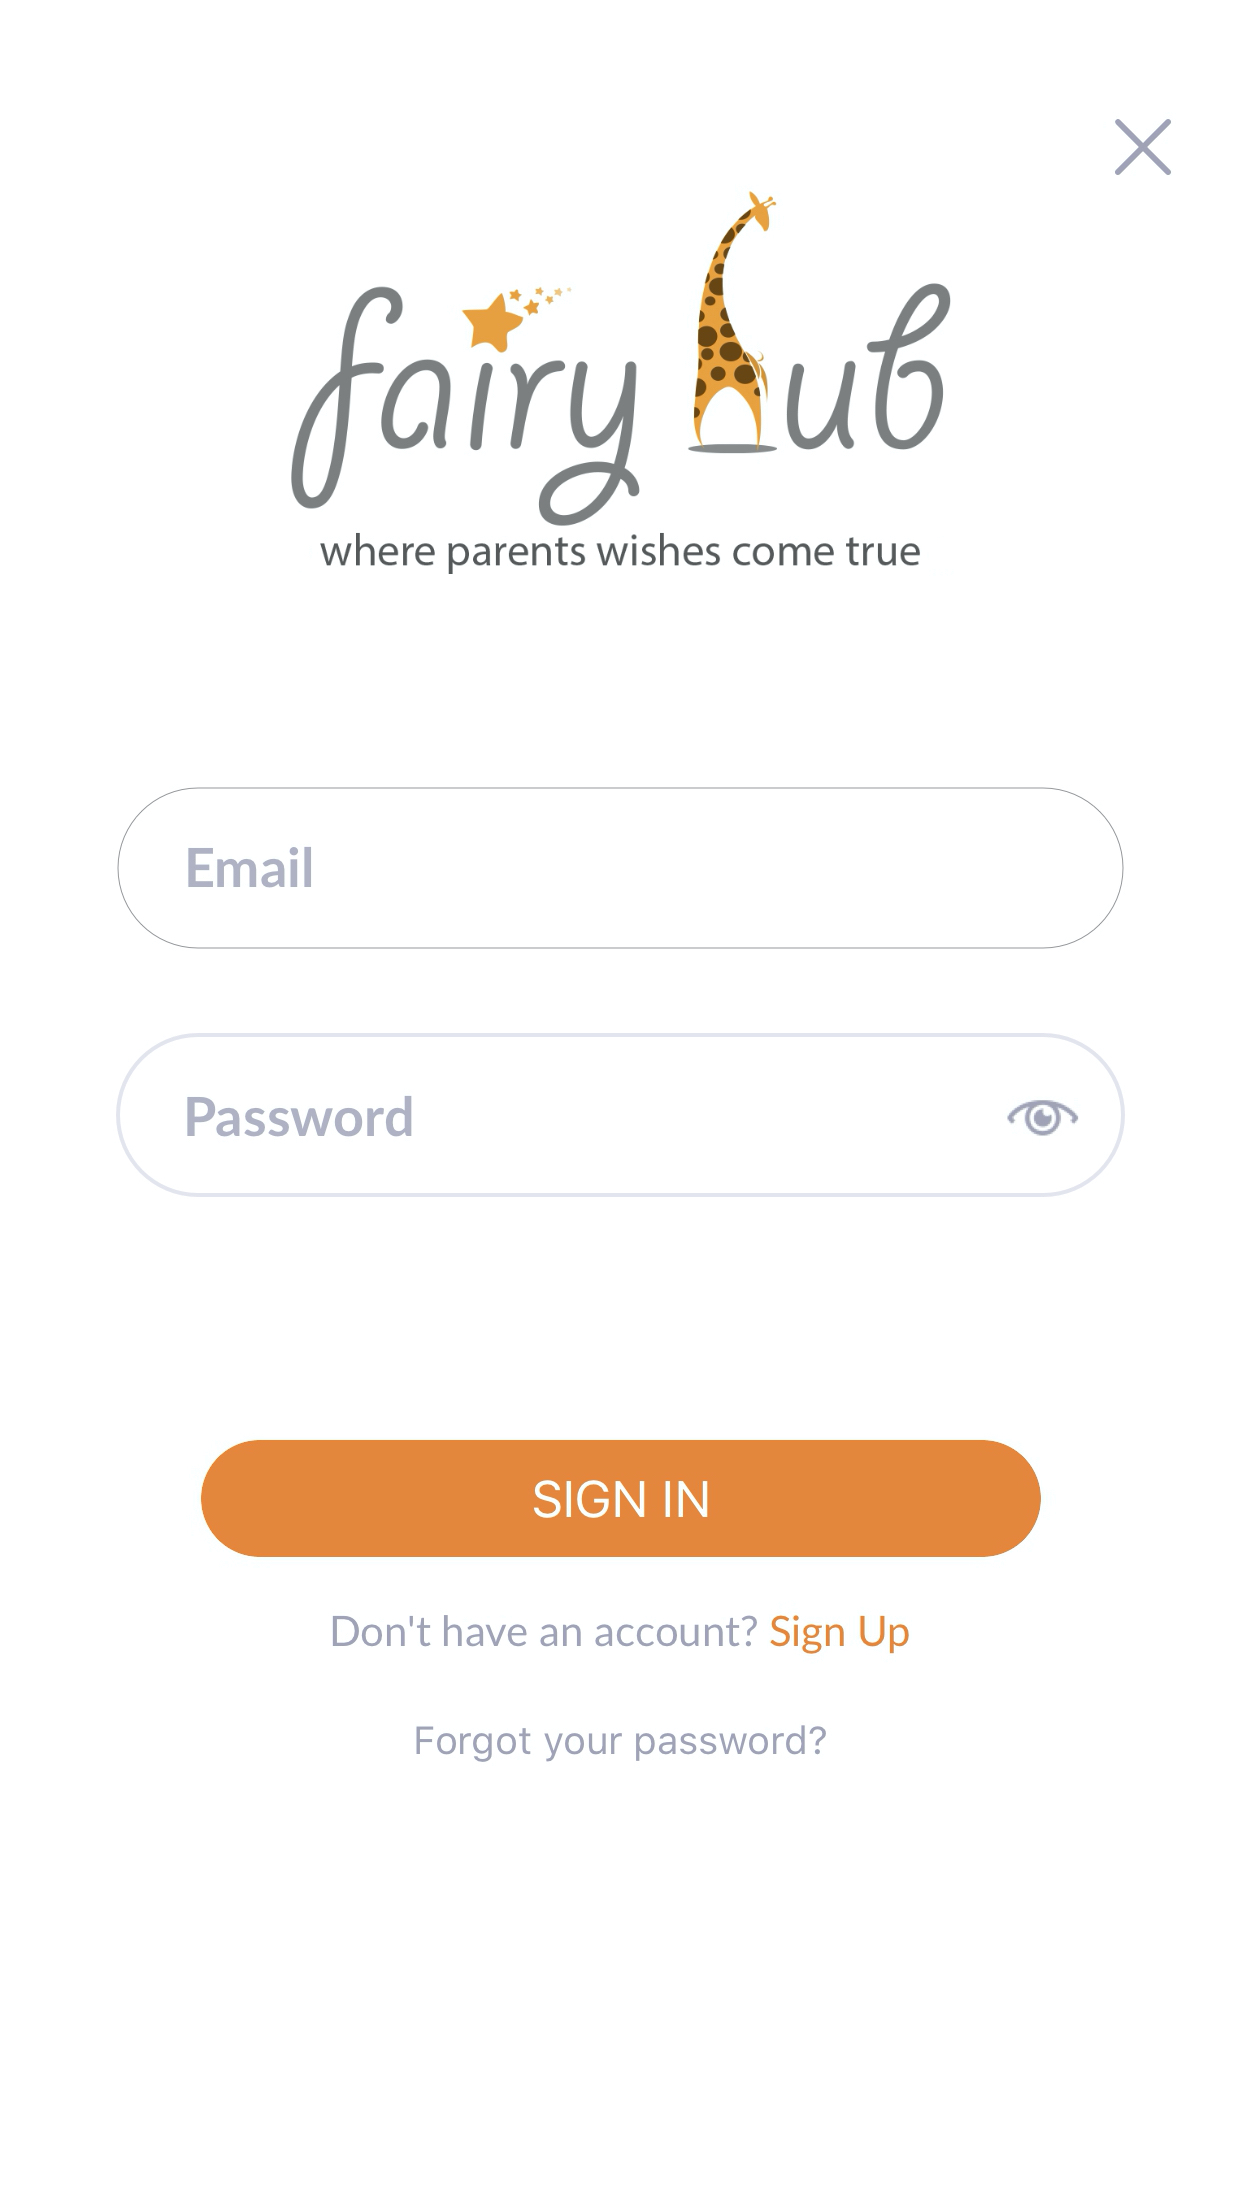EditText: (115, 1033, 1125, 1197), (117, 787, 1124, 949)
Icon: (1115, 118, 1171, 174), (1007, 1101, 1080, 1136)
Image: (293, 191, 951, 528)
Text: (320, 532, 921, 575), (416, 1724, 826, 1762), (332, 1615, 757, 1647), (187, 1095, 412, 1137), (770, 1615, 908, 1654), (188, 846, 311, 889)
TextButton: (202, 1439, 1040, 1557)
